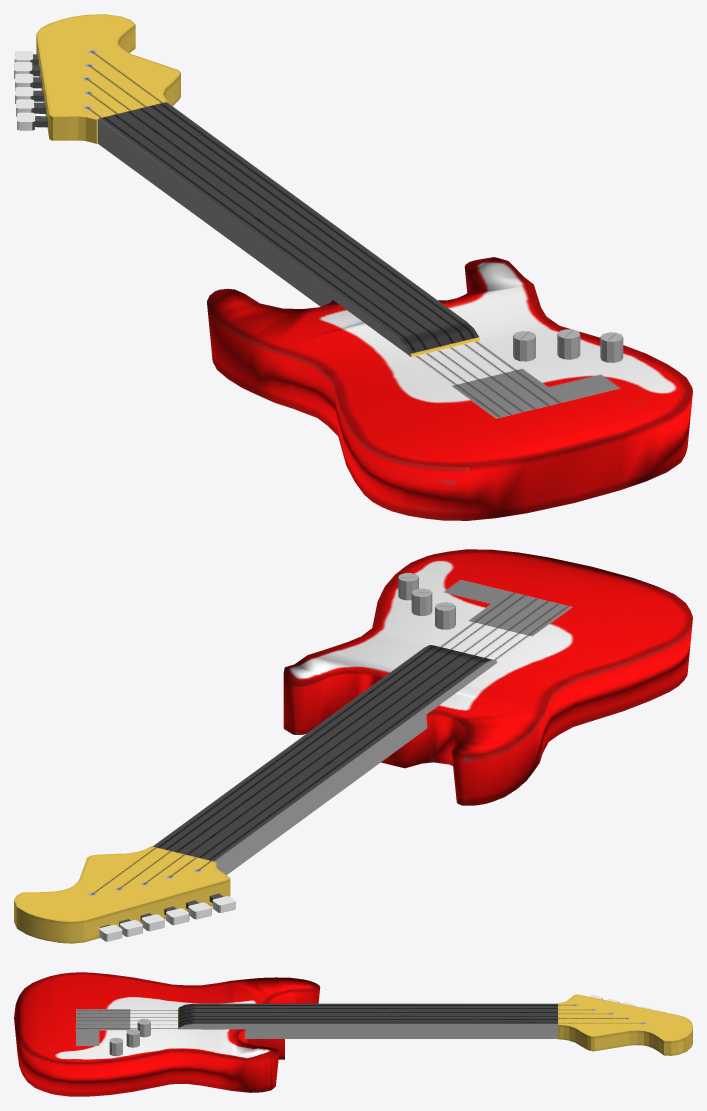
File: Guitar.fbx
The picture shows the model from 3 angles, top to bottom: view 1: azimuth 30°, elevation 25°; view 2: azimuth 150°, elevation 25°; view 3: azimuth 270°, elevation 25°; orthographic projection. The views are drawn at different scales.
Parts seen in each view (by area): view 1: Guitar:Body; view 2: Guitar:Body; view 3: Guitar:Body.
Boxes of the visible parts, x1,y1,x2,y2 form: Guitar:Body: [14, 14, 692, 520]; Guitar:Body: [14, 549, 692, 943]; Guitar:Body: [14, 972, 692, 1096].
Size of the model in its own units: 48.79 by 11.57 by 152.
Materials: 1 (1 with a texture image).
